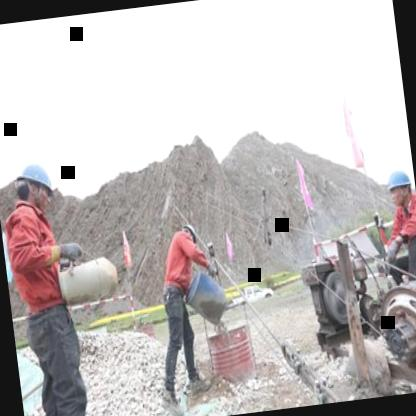helmet: (14, 151, 61, 218), (380, 163, 416, 211), (180, 220, 201, 250)
